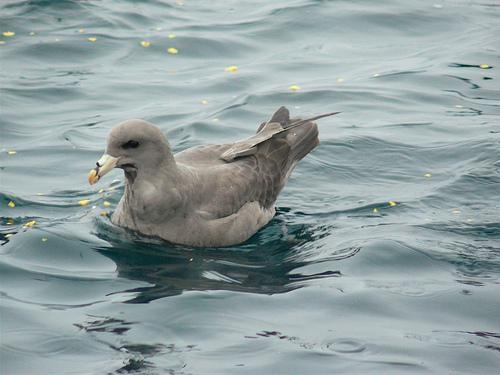bird: (84, 102, 327, 253)
